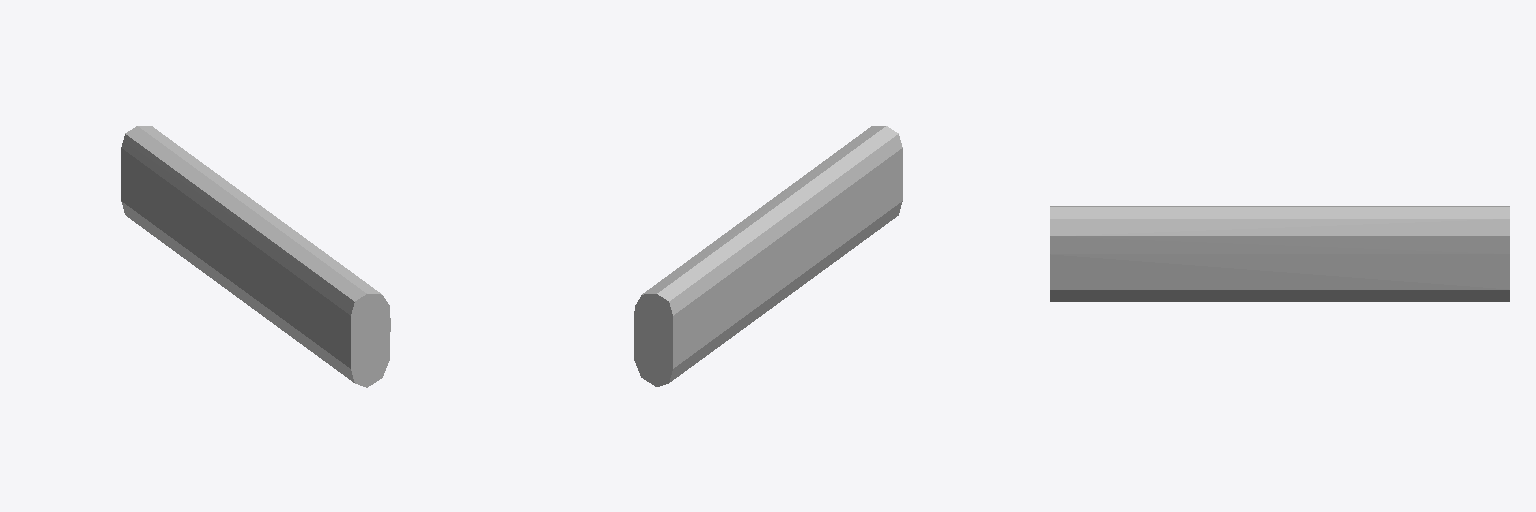
File: Cart_outer_skeleton_collision_18.obj
The picture shows the model from 3 angles: view 1: azimuth 30°, elevation 25°; view 2: azimuth 150°, elevation 25°; view 3: azimuth 270°, elevation 25°; orthographic projection.
Bounding box in the file's own units: 0.0196 × 0.0444 × 0.1963.